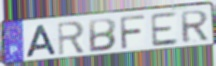A: (23, 24, 59, 59)
B: (87, 17, 118, 54)
E: (149, 10, 180, 48)
F: (119, 14, 148, 51)
R: (179, 9, 211, 45), (56, 20, 87, 57)
